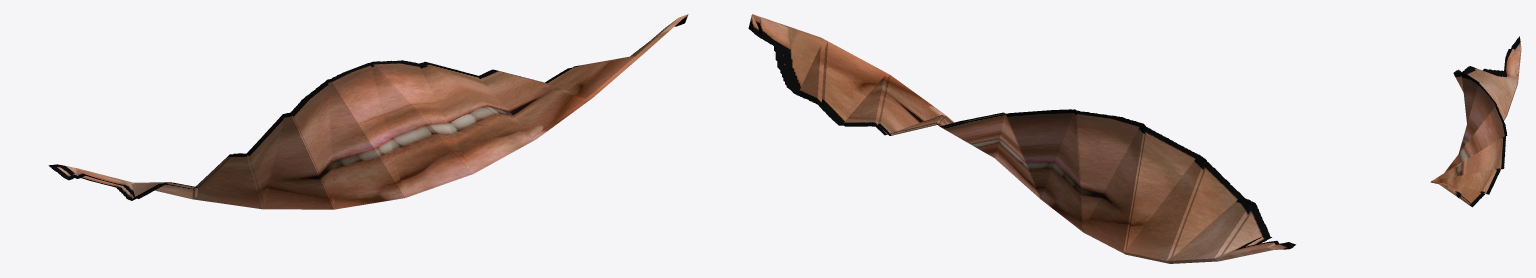
The model's file is particlething.obj.
3 renders of one model, left to right at view 1: azimuth 30°, elevation 25°; view 2: azimuth 150°, elevation 25°; view 3: azimuth 270°, elevation 25°, orthographic. The views are drawn at different scales.
Visible parts, largest first — view 1: Plane_Plane.012; view 2: Plane_Plane.012; view 3: Plane_Plane.012.
Boxes of the visible parts, left/top/right/bottom form: Plane_Plane.012: left=48, top=14, right=688, bottom=209; Plane_Plane.012: left=748, top=14, right=1295, bottom=263; Plane_Plane.012: left=1430, top=36, right=1521, bottom=207.
Size of the model in its own units: 10 by 1.99 by 2.
1 material, 1 textured.
